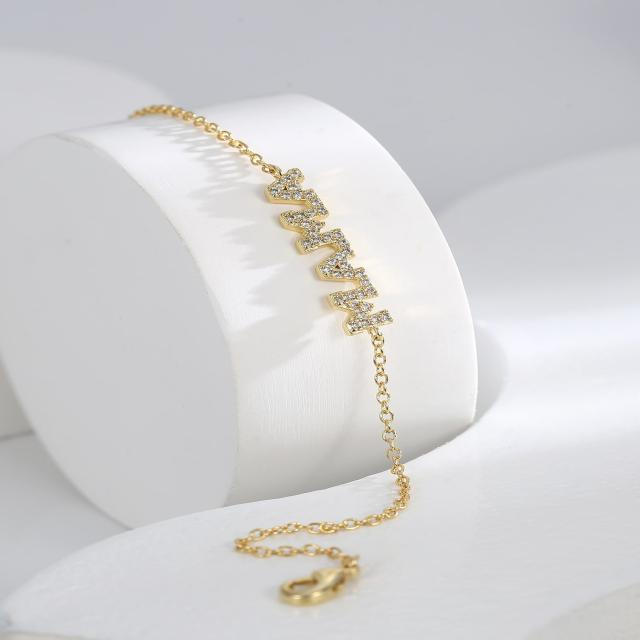bracelet: (16, 1, 475, 640)
